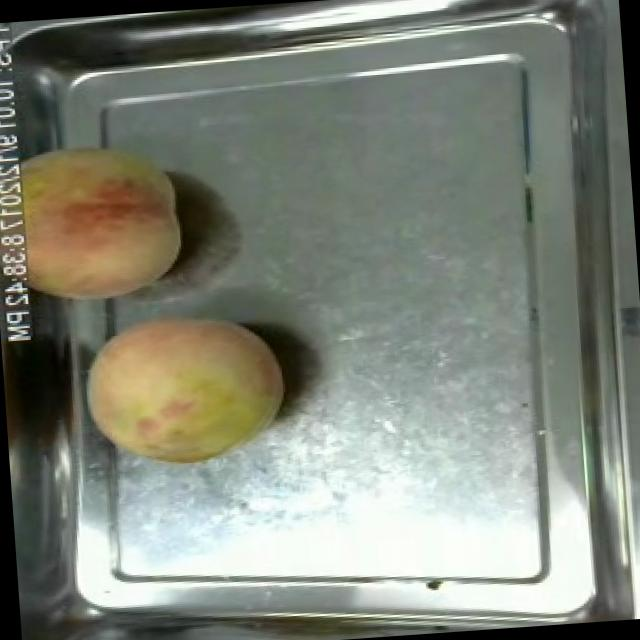Fruit: (70, 292, 298, 483), (11, 125, 197, 315)
